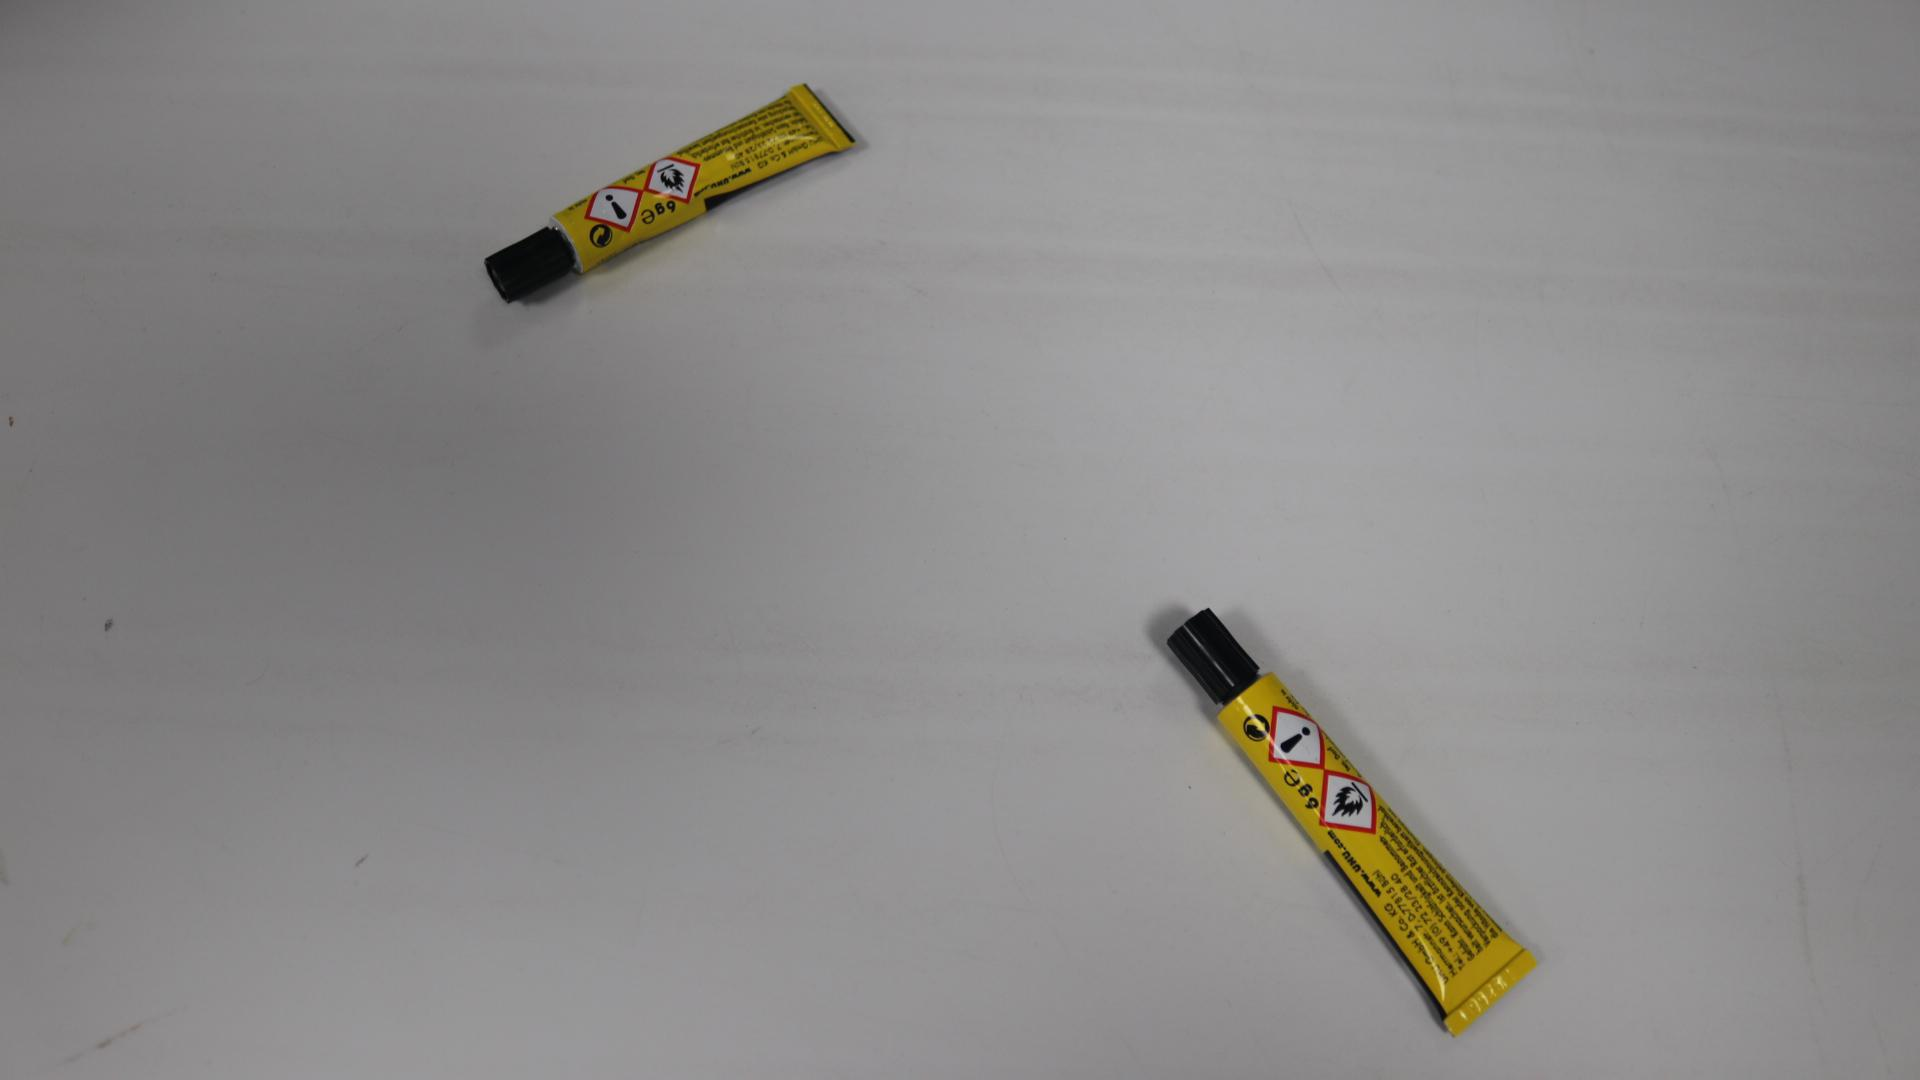Head: (1207, 650, 1220, 664), (528, 256, 537, 266)
Tail: (1483, 989, 1498, 1002), (816, 110, 827, 122)
Tube: (1168, 609, 1542, 1041), (486, 84, 857, 305)
